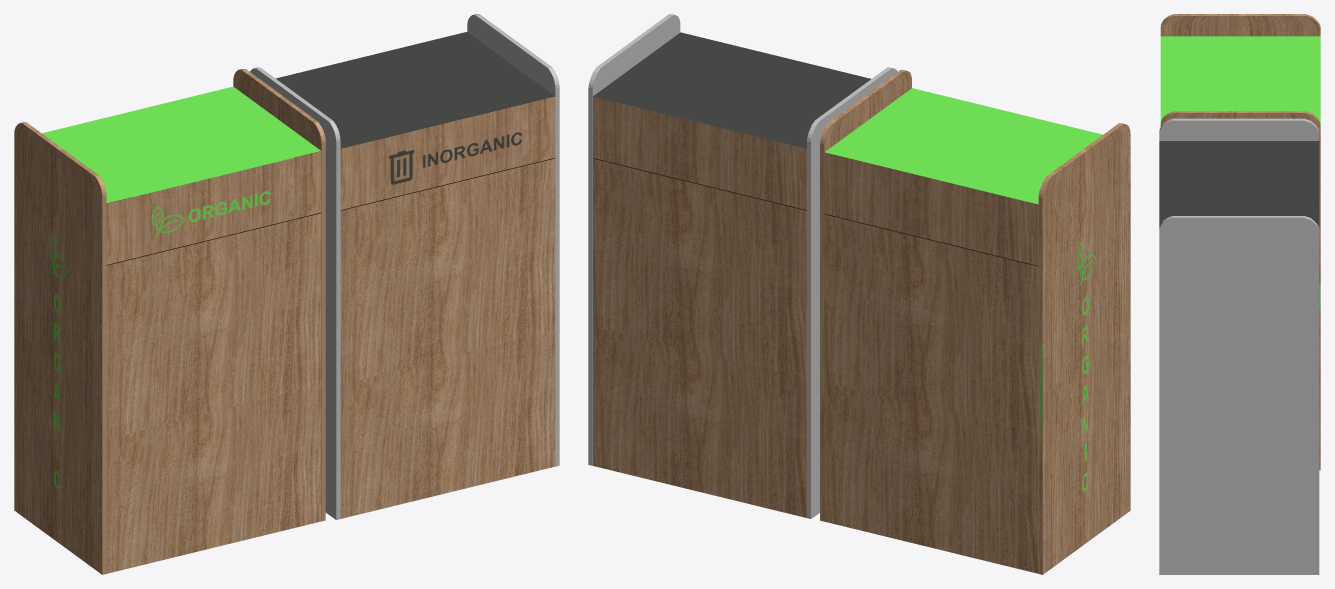
Rendered from trash.fbx.
3 views of the same model, side by side, from view 1: azimuth 30°, elevation 25°; view 2: azimuth 150°, elevation 25°; view 3: azimuth 270°, elevation 25° (orthographic). The views are drawn at different scales.
Parts seen in each view (by area): view 1: organicTrash; view 2: organicTrash; view 3: organicTrash.
Part boxes in pixels (x1,y1,x2,y2): organicTrash: [14, 14, 559, 574]; organicTrash: [588, 14, 1130, 574]; organicTrash: [1159, 14, 1320, 574].
Bounding box in the file's own units: 455 × 376 × 153.
